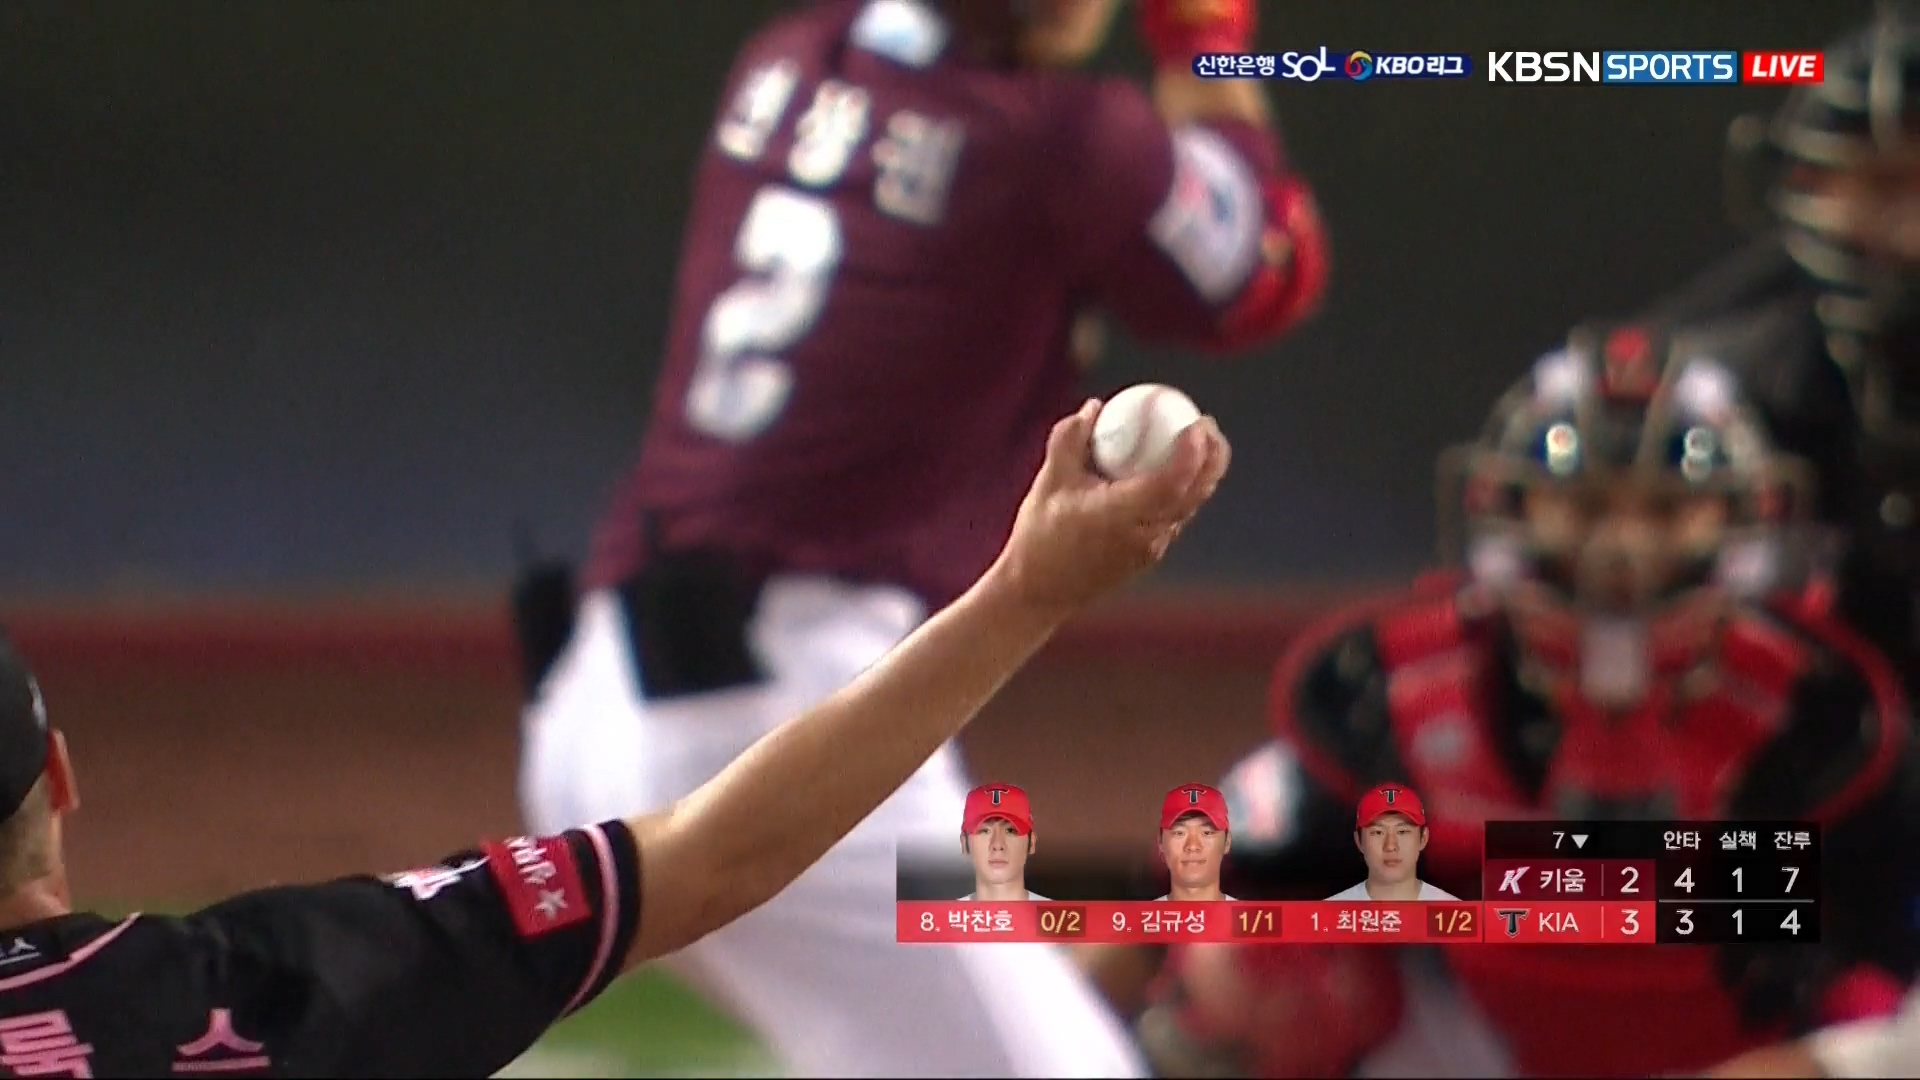zoomin_hand: (665, 372, 1247, 944)
